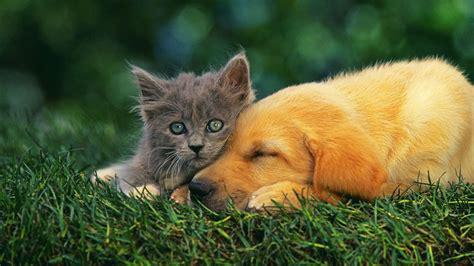cat: (94, 56, 251, 200)
dog: (191, 60, 474, 216)
